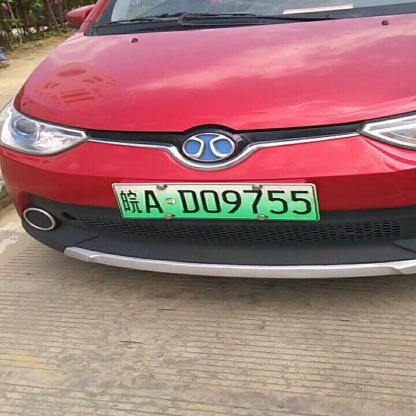lp: (114, 184, 318, 220)
